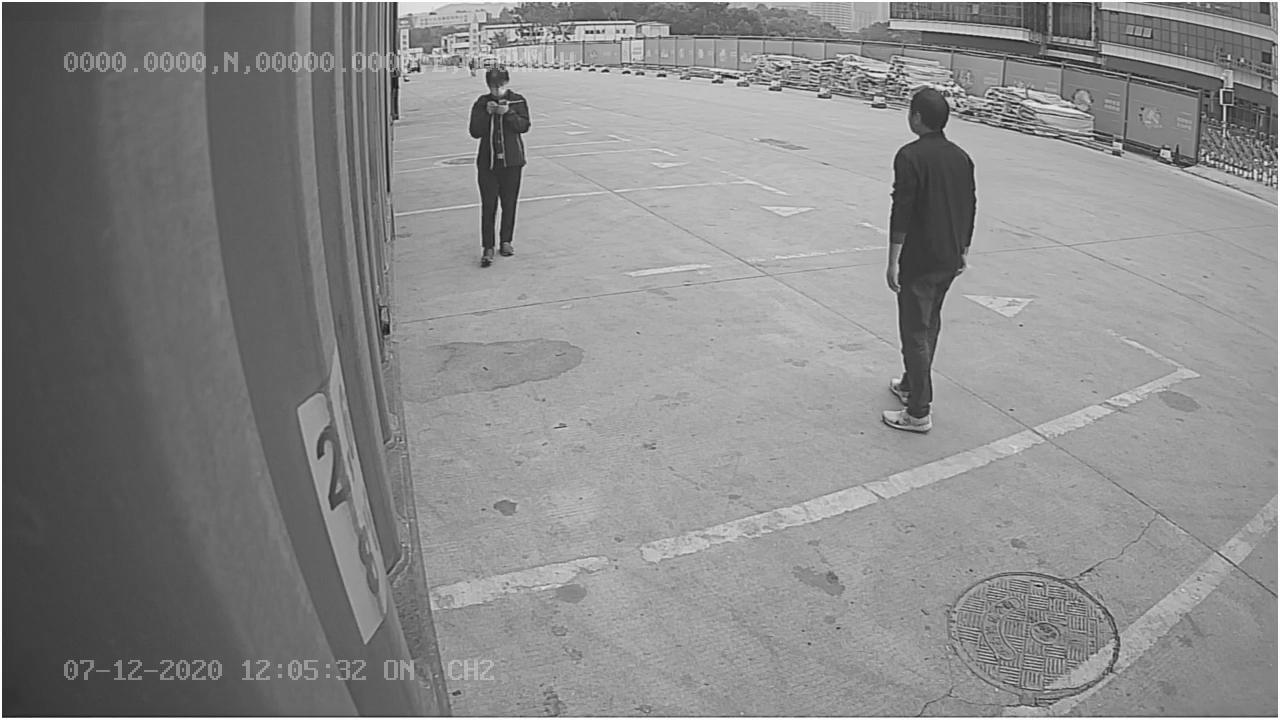person: (869, 82, 985, 432)
